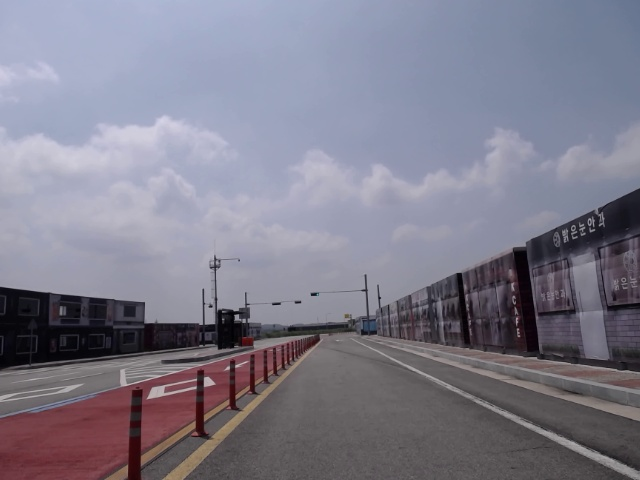green_3: (310, 292, 320, 296)
